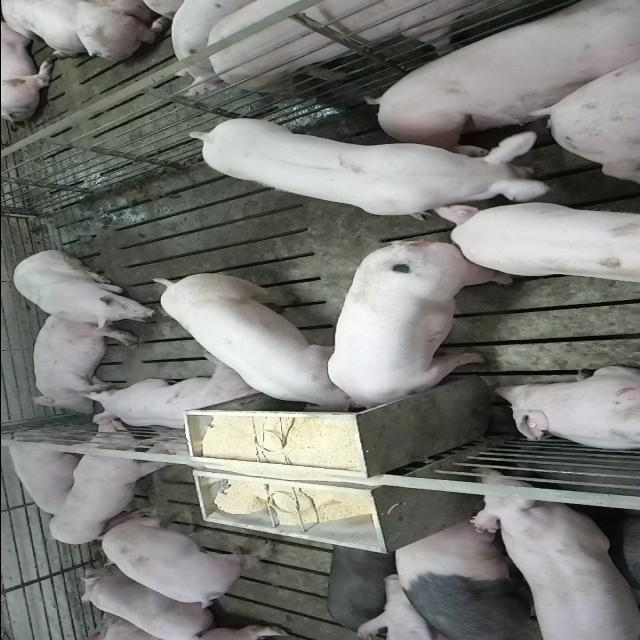Feeding: (326, 244, 512, 418), (143, 268, 357, 410)
Lateral_lying: (366, 4, 640, 162), (27, 310, 137, 415)
Sitting: (9, 250, 159, 328)
Standing: (199, 0, 639, 98), (190, 115, 576, 220), (462, 476, 638, 640), (384, 520, 554, 638), (446, 204, 640, 288), (49, 418, 175, 546), (99, 518, 269, 608)
Sternal_lying: (83, 360, 265, 432), (490, 368, 640, 455), (74, 570, 222, 638), (5, 428, 91, 518)
